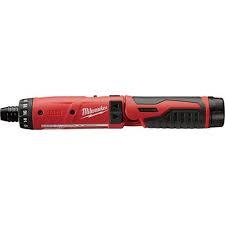screwdriver: (0, 93, 223, 126)
